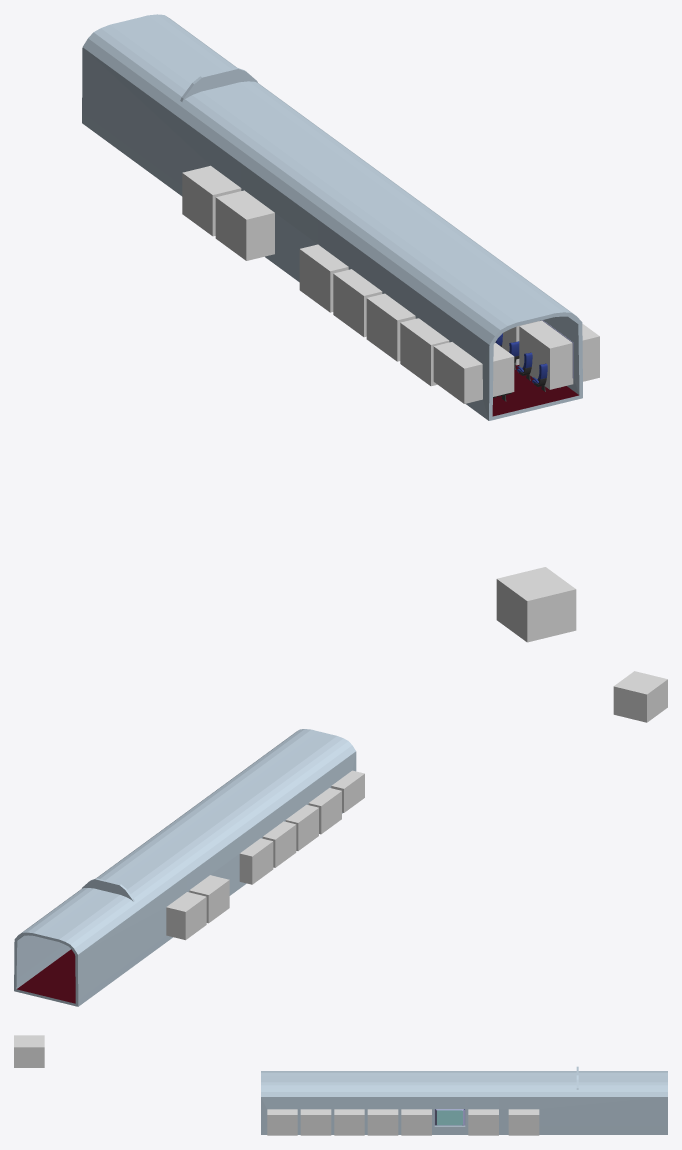
File: Вагон_макет (2).fbx
The picture shows the model from 3 angles, top to bottom: view 1: azimuth 30°, elevation 25°; view 2: azimuth 150°, elevation 25°; view 3: azimuth 270°, elevation 25°; orthographic projection. The views are drawn at different scales.
Visible parts, largest first — view 1: Вагон, Cube.104, Cube.105, Cube.114, Cube.020, Cube.113, Cube.085, Cube.087, Cube.086, Cube.084, Стенка; view 2: Вагон, Cube.104, Cube.113, Cube.087, Cube.114, Cube.086, Cube.084, Cube.085, Cube.020; view 3: Вагон, Cube.104, Cube.106, Cube.108, Cube.112, Cube.105, Cube.107, Cube.109, Cube.111, Окно11.
Part boxes in pixels (x1,y1,x2,y2): Вагон: (82,14,582,420); Cube.104: (496,567,576,642); Cube.105: (519,320,599,389); Cube.114: (215,190,274,260); Cube.020: (433,342,514,403); Cube.113: (182,165,241,236); Cube.085: (366,293,415,361); Cube.087: (299,244,348,312); Cube.086: (333,269,382,337); Cube.084: (400,318,449,386); Стенка: (180,67,258,101); Вагон: (14,729,356,1006); Cube.104: (613,671,667,722); Cube.113: (166,892,206,940); Cube.087: (239,838,273,884); Cube.114: (189,875,229,923); Cube.086: (262,821,296,867); Cube.084: (308,788,341,834); Cube.085: (285,804,318,850); Cube.020: (331,770,364,812); Вагон: (261,1071,667,1134); Cube.104: (14,1035,44,1067); Cube.106: (300,1109,331,1135); Cube.108: (367,1109,398,1135); Cube.112: (508,1109,539,1135); Cube.105: (267,1109,297,1135); Cube.107: (334,1109,364,1135); Cube.109: (401,1109,431,1135); Cube.111: (468,1109,498,1135); Окно11: (434,1109,465,1125).
Size of the model in its own units: 13.82 by 4.27 by 48.05.
